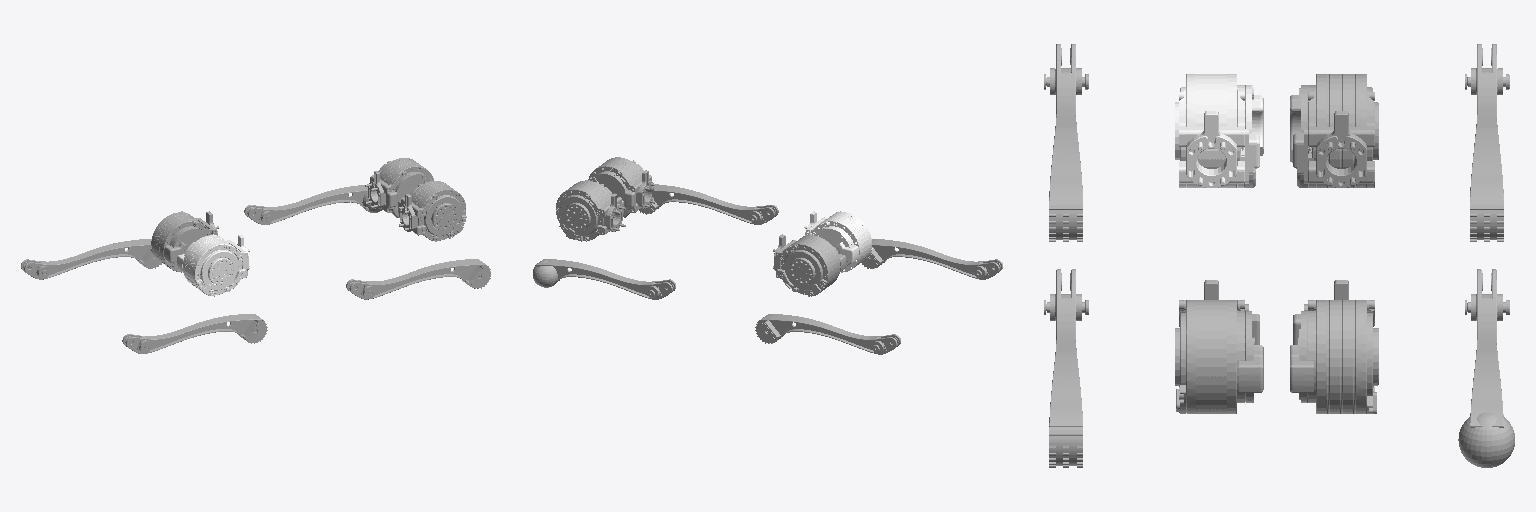
The robot description file, URDF, robot "eqr1":
<?xml version="1.0" encoding="utf-8"?>
<!-- This URDF was automatically created by SolidWorks to URDF Exporter! Originally created by [author] ([email redacted]) 
     Commit Version: 1.6.0-1-g15f4949  Build Version: 1.6.7594.29634
     For more information, please see http://wiki.ros.org/sw_urdf_exporter -->
<robot
  name="eqr1">

  <link
    name="base_link">
    <inertial>
      <origin
        xyz="-0.0027442 0.0015218 -0.044521"
        rpy="0 0 0" />
      <mass
        value="6.6344" />
      <inertia
        ixx="0.031183"
        ixy="-9.2E-05"
        ixz="0.000286"
        iyy="0.07013"
        iyz="0.000193"
        izz="0.085346" />
    </inertial>
    <visual>
      <origin
        xyz="0 0 0"
        rpy="0 0 0" />
      <geometry>
        <mesh
          filename="../meshes/base_link.STL" />
      </geometry>
      <material
        name="">
        <color
          rgba="0.75294 0.75294 0.75294 1" />
      </material>
    </visual>
    <collision>
      <origin
        xyz="0 0 0"
        rpy="0 0 0" />
      <geometry>
        <mesh
          filename="../meshes/base_link.STL" />
      </geometry>
    </collision>
  </link>
  <link
    name="fl_leg_l1">
    <inertial>
      <origin
        xyz="0.052069 -0.0025704 -0.00022742"
        rpy="0 0 0" />
      <mass
        value="0.73805" />
      <inertia
        ixx="0.00059"
        ixy="-6E-06"
        ixz="-7E-06"
        iyy="0.000845"
        iyz="-4E-06"
        izz="0.000694" />
    </inertial>
    <visual>
      <origin
        xyz="0 0 0"
        rpy="0 0 0" />
      <geometry>
        <mesh
          filename="../meshes/fl_leg_l1.STL" />
      </geometry>
      <material
        name="">
        <color
          rgba="0.75294 0.75294 0.75294 1" />
      </material>
    </visual>
    <!-- <collision>
      <origin xyz="0 0 0" rpy="0 0 0" />
      <geometry>
        <mesh
          filename="../meshes/fl_leg_l1.STL" />
      </geometry>
    </collision> -->
  </link>
  <joint
    name="fl_leg_1_joint"
    type="revolute">
    <origin
      xyz="0.149 0.05 -0.045"
      rpy="0 0 0" />
    <parent
      link="base_link" />
    <child
      link="fl_leg_l1" />
    <axis
      xyz="1 0 0" />
    <limit
      lower="-0.837"
      upper="0.837"
      effort="60"
      velocity="20" />
  </joint>
  <link
    name="fl_leg_l2">
    <inertial>
      <origin
        xyz="-0.020267 0.079245 -0.0023193"
        rpy="0 0 0" />
      <mass
        value="1.0843" />
      <inertia
        ixx="0.001282"
        ixy="-0.000736"
        ixz="0.000444"
        iyy="0.003869"
        iyz="-8.7E-05"
        izz="0.004044" />
    </inertial>
    <visual>
      <origin
        xyz="0 0 0"
        rpy="0 0 0" />
      <geometry>
        <mesh
          filename="../meshes/fl_leg_l2.STL" />
      </geometry>
      <material
        name="">
        <color
          rgba="0.75294 0.75294 0.75294 1" />
      </material>
    </visual>
    <collision>
      <!-- <origin xyz="0 0 0" rpy="0 0 0" /> -->
      <origin xyz="0 0 -0.08"/>
      <geometry>
       <!--  <mesh
          filename="../meshes/fl_leg_l2.STL" /> -->
          <box size="0.02 0.02 0.16"/>
      </geometry>
    </collision>
  </link>
  <joint
    name="fl_leg_2_joint"
    type="revolute">
    <origin
      xyz="0.0565 0 0"
      rpy="0 0 0" />
    <parent
      link="fl_leg_l1" />
    <child
      link="fl_leg_l2" />
    <axis
      xyz="0 1 0" />
    <limit
      lower="-3.49"
      upper="2.042"
      effort="60"
      velocity="20" />
  </joint>
  <link
    name="fl_leg_l3">
    <inertial>
      <origin
        xyz="0.07512 6.424E-05 -0.0031878"
        rpy="0 0 0" />
      <mass
        value="0.14396" />
      <inertia
        ixx="2E-05"
        ixy="-1E-06"
        ixz="-6.2E-05"
        iyy="0.001058"
        iyz="0"
        izz="0.00105" />
    </inertial>
    <visual>
      <origin
        xyz="0 0 0"
        rpy="0 0 0" />
      <geometry>
        <mesh
          filename="../meshes/fl_leg_l3.STL" />
      </geometry>
      <material
        name="">
        <color
          rgba="0.75294 0.75294 0.75294 1" />
      </material>
    </visual>
    <collision>
      <!-- <origin xyz="0 0 0" rpy="0 0 0" /> -->
      <origin xyz="0 0 -0.09"/>
      <geometry>
       <!--  <mesh
          filename="../meshes/fl_leg_l3.STL" />-->
          <box size="0.02 0.02 0.18"/>
      </geometry>
    </collision>
  </link>
  <joint
    name="fl_leg_3_joint"
    type="revolute">
    <origin
      xyz="-0.19401 0.112 -0.048585"
      rpy="0 0 0" />
    <parent
      link="fl_leg_l2" />
    <child
      link="fl_leg_l3" />
    <axis
      xyz="0 1 0" />
    <limit
      lower="0"
      upper="1.84"
      effort="60"
      velocity="20" />
  </joint>
  <link
    name="fl_leg_lee">
    <inertial>
      <origin
        xyz="0.0037486 -2.7756E-17 -0.0037586"
        rpy="0 0 0" />
      <mass
        value="0.023688" />
      <inertia
        ixx="4E-06"
        ixy="0"
        ixz="1E-06"
        iyy="3E-06"
        iyz="0"
        izz="4E-06" />
    </inertial>
    <visual>
      <origin
        xyz="0 0 0"
        rpy="0 0 0" />
      <geometry>
        <sphere radius="0.022" />
      </geometry>
      <material
        name="">
        <color
          rgba="0.75294 0.75294 0.75294 1" />
      </material>
    </visual>
    <collision>
      <origin
        xyz="0 0 0"
        rpy="0 0 0" />
      <geometry>
        <mesh
          filename="../meshes/fl_leg_ee.STL" />
      </geometry>
    </collision>
  </link>
  <joint
    name="fl_leg_ee"
    type="fixed"
    dont_collapse="true">
    <origin
      xyz="0.20148 0 -0.018511"
      rpy="0 0 0" />
    <parent
      link="fl_leg_l3" />
    <child
      link="fl_leg_lee" />
    <axis
      xyz="0 0 0" />
  </joint>
  <link
    name="fr_leg_l1">
    <inertial>
      <origin
        xyz="0.052469 0.002473 -0.00033617"
        rpy="0 0 0" />
      <mass
        value="0.74136" />
      <inertia
        ixx="0.000593"
        ixy="1E-06"
        ixz="-1.1E-05"
        iyy="0.000847"
        iyz="5E-06"
        izz="0.000699" />
    </inertial>
    <visual>
      <origin
        xyz="0 0 0"
        rpy="0 0 0" />
      <geometry>
        <mesh
          filename="../meshes/fr_leg_l1.STL" />
      </geometry>
      <material
        name="">
        <color
          rgba="0.75294 0.75294 0.75294 1" />
      </material>
    </visual>
    <!-- <collision>
      <origin xyz="0 0 0" rpy="0 0 0" />
      <geometry>
        <mesh
          filename="../meshes/fr_leg_l1.STL" />
      </geometry>
    </collision> -->
  </link>
  <joint
    name="fr_leg_1_joint"
    type="revolute">
    <origin
      xyz="0.149 -0.05 -0.045"
      rpy="0 0 0" />
    <parent
      link="base_link" />
    <child
      link="fr_leg_l1" />
    <axis
      xyz="1 0 0" />
    <limit
      lower="-0.837"
      upper="0.837"
      effort="60"
      velocity="20" />
  </joint>
  <link
    name="fr_leg_l2">
    <inertial>
      <origin
        xyz="-0.023051 -0.080149 -0.0029038"
        rpy="0 0 0" />
      <mass
        value="1.0885" />
      <inertia
        ixx="0.001308"
        ixy="0.000805"
        ixz="0.000572"
        iyy="0.004363"
        iyz="0.000113"
        izz="0.004491" />
    </inertial>
    <visual>
      <origin
        xyz="0 0 0"
        rpy="0 0 0" />
      <geometry>
        <mesh
          filename="../meshes/fr_leg_l2.STL" />
      </geometry>
      <material
        name="">
        <color
          rgba="0.75294 0.75294 0.75294 1" />
      </material>
    </visual>
    <collision>
      <!-- <origin xyz="0 0 0" rpy="0 0 0" /> -->
      <origin xyz="0 0 -0.08"/>
      <geometry>
        <!-- <mesh filename="../meshes/fr_thigh.STL" /> -->
        <box size="0.02 0.02 0.16"/>
      </geometry>
    </collision>
  </link>
  <joint
    name="fr_leg_2_joint"
    type="revolute">
    <origin
      xyz="0.0565 0 0"
      rpy="0 0 0" />
    <parent
      link="fr_leg_l1" />
    <child
      link="fr_leg_l2" />
    <axis
      xyz="0 1 0" />
    <limit
      lower="-3.49"
      upper="2.042"
      effort="60"
      velocity="20" />
  </joint>
  <link
    name="fr_leg_l3">
    <inertial>
      <origin
        xyz="0.07512 6.4242E-05 -0.0031878"
        rpy="0 0 0" />
      <mass
        value="0.14396" />
      <inertia
        ixx="2E-05"
        ixy="-1E-06"
        ixz="-6.2E-05"
        iyy="0.001058"
        iyz="0"
        izz="0.00105" />
    </inertial>
    <visual>
      <origin
        xyz="0 0 0"
        rpy="0 0 0" />
      <geometry>
        <mesh
          filename="../meshes/fr_leg_l3.STL" />
      </geometry>
      <material
        name="">
        <color
          rgba="0.75294 0.75294 0.75294 1" />
      </material>
    </visual>
    <collision>
      <!-- <origin xyz="0 0 0" rpy="0 0 0" /> -->
      <origin xyz="0 0 -0.09"/>
      <geometry>
        <!-- <mesh filename="../meshes/fr_shank_collision.STL" /> -->
        <box size="0.02 0.02 0.18"/>
      </geometry>
    </collision>
  </link>
  <joint
    name="fr_leg_3_joint"
    type="revolute">
    <origin
      xyz="-0.19401 -0.112 -0.048585"
      rpy="0 0 0" />
    <parent
      link="fr_leg_l2" />
    <child
      link="fr_leg_l3" />
    <axis
      xyz="0 1 0" />
    <limit
      lower="0"
      upper="1.84"
      effort="60"
      velocity="20" />
  </joint>
  <link
    name="fr_leg_lee">
    <inertial>
      <origin
        xyz="0.0037486 0 -0.0037586"
        rpy="0 0 0" />
      <mass
        value="0.023688" />
      <inertia
        ixx="4E-06"
        ixy="0"
        ixz="1E-06"
        iyy="3E-06"
        iyz="0"
        izz="4E-06" />
    </inertial>
    <visual>
      <origin
        xyz="0 0 0"
        rpy="0 0 0" />
      <geometry>
        <mesh
          filename="../meshes/fr_leg_ee.STL" />
      </geometry>
      <material
        name="">
        <color
          rgba="0.75294 0.75294 0.75294 1" />
      </material>
    </visual>
    <collision>
      <origin
        xyz="0 0 0"
        rpy="0 0 0" />
      <geometry>
        <mesh
          filename="../meshes/fr_leg_ee.STL" />
      </geometry>
    </collision>
  </link>
  <joint
    name="fr_leg_ee"
    type="fixed"
    dont_collapse="true">
    <origin
      xyz="0.20148 0 -0.018511"
      rpy="0 0 0" />
    <parent
      link="fr_leg_l3" />
    <child
      link="fr_leg_lee" />
    <axis
      xyz="0 0 0" />
  </joint>
  <link
    name="hl_leg_l1">
    <inertial>
      <origin
        xyz="-0.052471 -0.002473 -0.00033617"
        rpy="0 0 0" />
      <mass
        value="0.74136" />
      <inertia
        ixx="0.000593"
        ixy="1E-06"
        ixz="1.1E-05"
        iyy="0.000847"
        iyz="-5E-06"
        izz="0.000699" />
    </inertial>
    <visual>
      <origin
        xyz="0 0 0"
        rpy="0 0 0" />
      <geometry>
        <mesh
          filename="../meshes/hl_leg_l1.STL" />
      </geometry>
      <material
        name="">
        <color
          rgba="0.75294 0.75294 0.75294 1" />
      </material>
    </visual>
    <!-- <collision>
      <origin xyz="0 0 0" rpy="0 0 0" />
      <geometry>
        <mesh
          filename="../meshes/hl_leg_l1.STL" />
      </geometry>
    </collision> -->
  </link>
  <joint
    name="hl_leg_1_joint"
    type="revolute">
    <origin
      xyz="-0.149 0.05 -0.045"
      rpy="0 0 0" />
    <parent
      link="base_link" />
    <child
      link="hl_leg_l1" />
    <axis
      xyz="1 0 0" />
    <limit
      lower="-0.837"
      upper="0.837"
      effort="60"
      velocity="20" />
  </joint>
  <link
    name="hl_leg_l2">
    <inertial>
      <origin
        xyz="-0.020267 0.079245 -0.0023193"
        rpy="0 0 0" />
      <mass
        value="1.0843" />
      <inertia
        ixx="0.001282"
        ixy="-0.000736"
        ixz="0.000444"
        iyy="0.003869"
        iyz="-8.7E-05"
        izz="0.004044" />
    </inertial>
    <visual>
      <origin
        xyz="0 0 0"
        rpy="0 0 0" />
      <geometry>
        <mesh
          filename="../meshes/hl_leg_l2.STL" />
      </geometry>
      <material
        name="">
        <color
          rgba="0.75294 0.75294 0.75294 1" />
      </material>
    </visual>
    <collision>
      <!-- <origin xyz="0 0 0" rpy="0 0 0" /> -->
      <origin xyz="0 0 -0.08"/>
      <geometry>
        <!-- <mesh filename="../meshes/hl_thigh.STL" /> -->
        <box size="0.02 0.02 0.16"/>
      </geometry>
    </collision>
  </link>
  <joint
    name="hl_leg_2_joint"
    type="revolute">
    <origin
      xyz="-0.0565 0 0"
      rpy="0 0 0" />
    <parent
      link="hl_leg_l1" />
    <child
      link="hl_leg_l2" />
    <axis
      xyz="0 1 0" />
    <limit
      lower="-3.49"
      upper="2.042"
      effort="60"
      velocity="20" />
  </joint>
  <link
    name="hl_leg_l3">
    <inertial>
      <origin
        xyz="0.07512 6.424E-05 -0.0031878"
        rpy="0 0 0" />
      <mass
        value="0.14396" />
      <inertia
        ixx="2E-05"
        ixy="-1E-06"
        ixz="-6.2E-05"
        iyy="0.001058"
        iyz="0"
        izz="0.00105" />
    </inertial>
    <visual>
      <origin
        xyz="0 0 0"
        rpy="0 0 0" />
      <geometry>
        <mesh
          filename="../meshes/hl_leg_l3.STL" />
      </geometry>
      <material
        name="">
        <color
          rgba="0.75294 0.75294 0.75294 1" />
      </material>
    </visual>
    <collision>
      <!-- <origin xyz="0 0 0" rpy="0 0 0" /> -->
      <origin xyz="0 0 -0.09"/>
      <geometry>
        <!-- <mesh filename="../meshes/hl_shank_collision.STL" /> -->
        <box size="0.02 0.02 0.18"/>
      </geometry>
    </collision>
  </link>
  <joint
    name="hl_leg_3_joint"
    type="revolute">
    <origin
      xyz="-0.19401 0.112 -0.048585"
      rpy="0 0 0" />
    <parent
      link="hl_leg_l2" />
    <child
      link="hl_leg_l3" />
    <axis
      xyz="0 1 0" />
    <limit
      lower="0"
      upper="1.84"
      effort="60"
      velocity="20" />
  </joint>
  <link
    name="hl_leg_lee">
    <inertial>
      <origin
        xyz="0.0037486 5.5511E-17 -0.0037586"
        rpy="0 0 0" />
      <mass
        value="0.023688" />
      <inertia
        ixx="4E-06"
        ixy="0"
        ixz="1E-06"
        iyy="3E-06"
        iyz="0"
        izz="4E-06" />
    </inertial>
    <visual>
      <origin
        xyz="0 0 0"
        rpy="0 0 0" />
      <geometry>
        <mesh
          filename="../meshes/hl_leg_ee.STL" />
      </geometry>
      <material
        name="">
        <color
          rgba="0.75294 0.75294 0.75294 1" />
      </material>
    </visual>
    <collision>
      <origin
        xyz="0 0 0"
        rpy="0 0 0" />
      <geometry>
        <mesh
          filename="../meshes/hl_leg_ee.STL" />
      </geometry>
    </collision>
  </link>
  <joint
    name="hl_leg_ee"
    type="fixed"
    dont_collapse="true">
    <origin
      xyz="0.20148 0 -0.018511"
      rpy="0 0 0" />
    <parent
      link="hl_leg_l3" />
    <child
      link="hl_leg_lee" />
    <axis
      xyz="0 0 0" />
  </joint>
  <link
    name="hr_leg_l1">
    <inertial>
      <origin
        xyz="-0.052471 0.002447 -0.000306"
        rpy="0 0 0" />
      <mass
        value="0.74076" />
      <inertia
        ixx="0.000592"
        ixy="-1E-06"
        ixz="1.1E-05"
        iyy="0.000847"
        iyz="5E-06"
        izz="0.000699" />
    </inertial>
    <visual>
      <origin
        xyz="0 0 0"
        rpy="0 0 0" />
      <geometry>
        <mesh
          filename="../meshes/hr_leg_l1.STL" />
      </geometry>
      <material
        name="">
        <color
          rgba="1 1 1 1" />
      </material>
    </visual>
    <!-- <collision>
      <origin xyz="0 0 0" rpy="0 0 0" />
      <geometry>
        <mesh
          filename="../meshes/hr_leg_l1.STL" />
      </geometry>
    </collision> -->
  </link>
  <joint
    name="hr_leg_1_joint"
    type="revolute">
    <origin
      xyz="-0.149 -0.05 -0.045"
      rpy="0 0 0" />
    <parent
      link="base_link" />
    <child
      link="hr_leg_l1" />
    <axis
      xyz="1 0 0" />
    <limit
      lower="-0.837"
      upper="0.837"
      effort="60"
      velocity="20" />
  </joint>
  <link
    name="hr_leg_l2">
    <inertial>
      <origin
        xyz="-0.023051 -0.080149 -0.0029038"
        rpy="0 0 0" />
      <mass
        value="1.0885" />
      <inertia
        ixx="0.001308"
        ixy="0.000805"
        ixz="0.000572"
        iyy="0.004363"
        iyz="0.000113"
        izz="0.004491" />
    </inertial>
    <visual>
      <origin
        xyz="0 0 0"
        rpy="0 0 0" />
      <geometry>
        <mesh
          filename="../meshes/hr_leg_l2.STL" />
      </geometry>
      <material
        name="">
        <color
          rgba="0.75294 0.75294 0.75294 1" />
      </material>
    </visual>
    <collision>
      <!-- <origin xyz="0 0 0" rpy="0 0 0" /> -->
      <origin xyz="0 0 -0.08"/>
      <geometry>
        <mesh
          filename="../meshes/hr_leg_l2.STL" />
      </geometry>
    </collision>
  </link>
  <joint
    name="hr_leg_2_joint"
    type="revolute">
    <origin
      xyz="-0.0565 0 0"
      rpy="0 0 0" />
    <parent
      link="hr_leg_l1" />
    <child
      link="hr_leg_l2" />
    <axis
      xyz="0 1 0" />
    <limit
      lower="-3.49"
      upper="2.042"
      effort="60"
      velocity="20" />
  </joint>
  <link
    name="hr_leg_l3">
    <inertial>
      <origin
        xyz="0.07512 6.424E-05 -0.0031878"
        rpy="0 0 0" />
      <mass
        value="0.14396" />
      <inertia
        ixx="2E-05"
        ixy="-1E-06"
        ixz="-6.2E-05"
        iyy="0.001058"
        iyz="0"
        izz="0.00105" />
    </inertial>
    <visual>
      <origin
        xyz="0 0 0"
        rpy="0 0 0" />
      <geometry>
        <mesh
          filename="../meshes/hr_leg_l3.STL" />
      </geometry>
      <material
        name="">
        <color
          rgba="0.75294 0.75294 0.75294 1" />
      </material>
    </visual>
    <collision>
      <origin
        xyz="0 0 0"
        rpy="0 0 0" />
      <geometry>
        <mesh
          filename="../meshes/hr_leg_l3.STL" />
      </geometry>
    </collision>
  </link>
  <joint
    name="hr_leg_3_joint"
    type="revolute">
    <origin
      xyz="-0.19401 -0.112 -0.048585"
      rpy="0 0 0" />
    <parent
      link="hr_leg_l2" />
    <child
      link="hr_leg_l3" />
    <axis
      xyz="0 1 0" />
    <limit
      lower="0"
      upper="1.84"
      effort="60"
      velocity="20" />
  </joint>
  <link
    name="hr_leg_lee">
    <inertial>
      <origin
        xyz="0.0037486 5.5511E-17 -0.0037586"
        rpy="0 0 0" />
      <mass
        value="0.023688" />
      <inertia
        ixx="4E-06"
        ixy="0"
        ixz="1E-06"
        iyy="3E-06"
        iyz="0"
        izz="4E-06" />
    </inertial>
    <visual>
      <origin
        xyz="0 0 0"
        rpy="0 0 0" />
      <geometry>
        <mesh
          filename="../meshes/hr_leg_ee.STL" />
      </geometry>
      <material
        name="">
        <color
          rgba="0.75294 0.75294 0.75294 1" />
      </material>
    </visual>
    <collision>
      <origin
        xyz="0 0 0"
        rpy="0 0 0" />
      <geometry>
        <mesh
          filename="../meshes/hr_leg_ee.STL" />
      </geometry>
    </collision>
  </link>
  <joint
    name="hr_leg_ee"
    type="fixed"
    dont_collapse="true">
    <origin
      xyz="0.20148 0 -0.018511"
      rpy="0 0 0" />
    <parent
      link="hr_leg_l3" />
    <child
      link="hr_leg_lee" />
    <axis
      xyz="0 0 0" />
  </joint>
</robot>

--- Render facts (derived) ---
3 views of the same robot in one strip: view 1: azimuth 30°, elevation 25°; view 2: azimuth 150°, elevation 25°; view 3: azimuth 270°, elevation 25° (orthographic).
Model eqr1 with 17 links and 16 joints (12 revolute, 4 fixed), rooted at base_link, posed every joint at zero.
Links seen in each view (by area): view 1: hr_leg_l1, fr_leg_l1, fl_leg_l1, hl_leg_l1, fr_leg_l3, hr_leg_l3, hl_leg_l3, fl_leg_l3; view 2: hl_leg_l1, fl_leg_l1, fr_leg_l1, hr_leg_l1, hl_leg_l3, hr_leg_l3, fr_leg_l3, fl_leg_l3; view 3: fl_leg_l1, fr_leg_l1, hl_leg_l1, hr_leg_l1, fr_leg_l3, hr_leg_l3, hl_leg_l3, fl_leg_l3, fl_leg_lee, hl_leg_lee, fr_leg_lee, hr_leg_lee.
Link boxes in pixels (x1,y1,x2,y2): hr_leg_l1: (177, 234, 249, 296); fr_leg_l1: (398, 181, 466, 241); fl_leg_l1: (365, 158, 433, 217); hl_leg_l1: (151, 211, 218, 272); fr_leg_l3: (346, 259, 486, 299); hr_leg_l3: (122, 314, 262, 353); hl_leg_l3: (21, 239, 152, 279); fl_leg_l3: (244, 185, 368, 224); hl_leg_l1: (773, 234, 845, 296); fl_leg_l1: (556, 180, 625, 241); fr_leg_l1: (588, 157, 654, 217); hr_leg_l1: (804, 211, 872, 272); hl_leg_l3: (760, 314, 900, 354); hr_leg_l3: (871, 239, 1002, 279); fr_leg_l3: (651, 184, 778, 224); fl_leg_l3: (535, 259, 675, 299); fl_leg_l1: (1290, 280, 1378, 413); fr_leg_l1: (1175, 280, 1263, 413); hl_leg_l1: (1290, 74, 1378, 187); hr_leg_l1: (1175, 74, 1263, 187); fr_leg_l3: (1044, 269, 1088, 426); hr_leg_l3: (1044, 44, 1088, 200); hl_leg_l3: (1465, 44, 1509, 200); fl_leg_l3: (1465, 269, 1509, 427); fl_leg_lee: (1458, 413, 1514, 467); hl_leg_lee: (1470, 201, 1503, 241); fr_leg_lee: (1049, 427, 1082, 467); hr_leg_lee: (1049, 201, 1082, 241).
Bounding box of the posed robot: 0.6814 × 0.3627 × 0.1331 m (x, y, z).
Meshes: 16 distinct files referenced, 11 mesh visuals loaded (11 binary STL); not drawn: 5 (reference not matched to a file when rendering).
